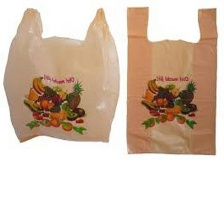plastic_bag: (1, 5, 123, 147), (120, 5, 220, 157)
